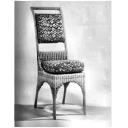chair_success: (26, 2, 90, 124)
